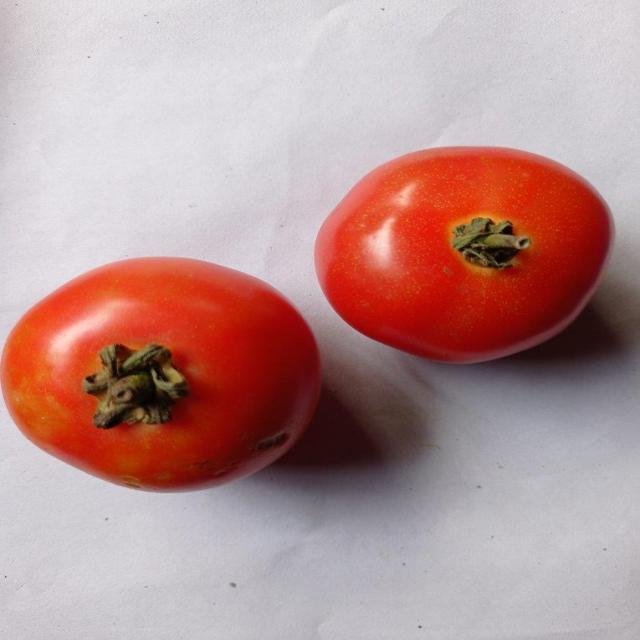Ripe: (0, 248, 326, 494), (324, 131, 616, 371)
